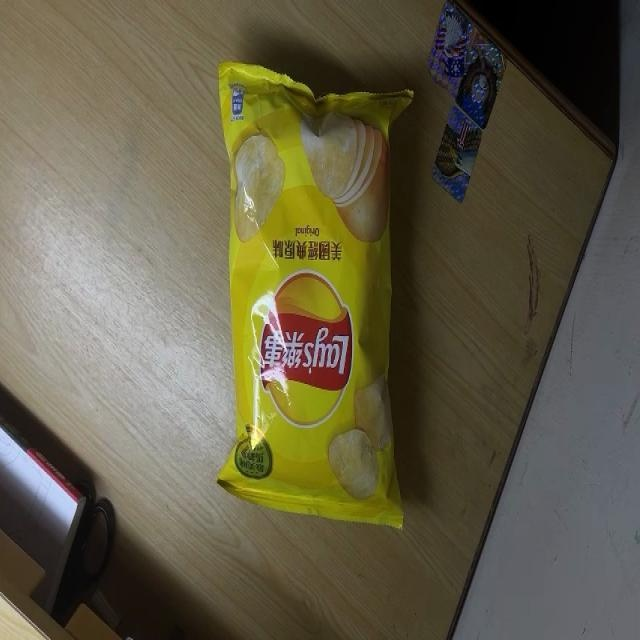Lay-s-original: (215, 61, 412, 534)
